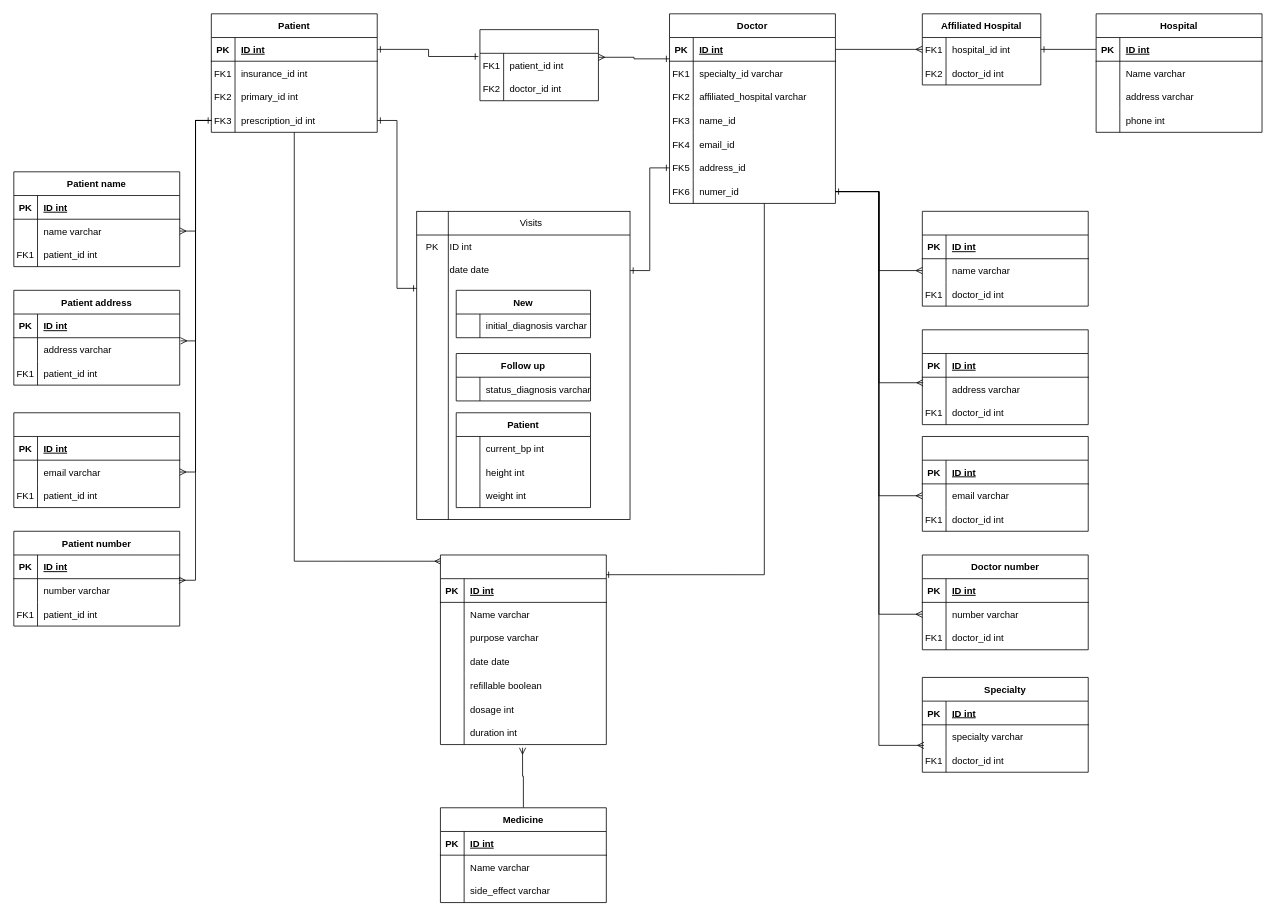
This 1276x916 diagram has some shape labels left out. The shapes that lost their labels are listed below. From the top down, each one's box as (x1, y1, x2, y2) in pixels, then its label:
(479, 29, 598, 101): Primary Care
(922, 211, 1088, 306): Doctor name
(922, 329, 1088, 425): Doctor address
(13, 412, 180, 508): Patient email
(922, 436, 1088, 531): Doctor email
(440, 554, 606, 745): Prescription
